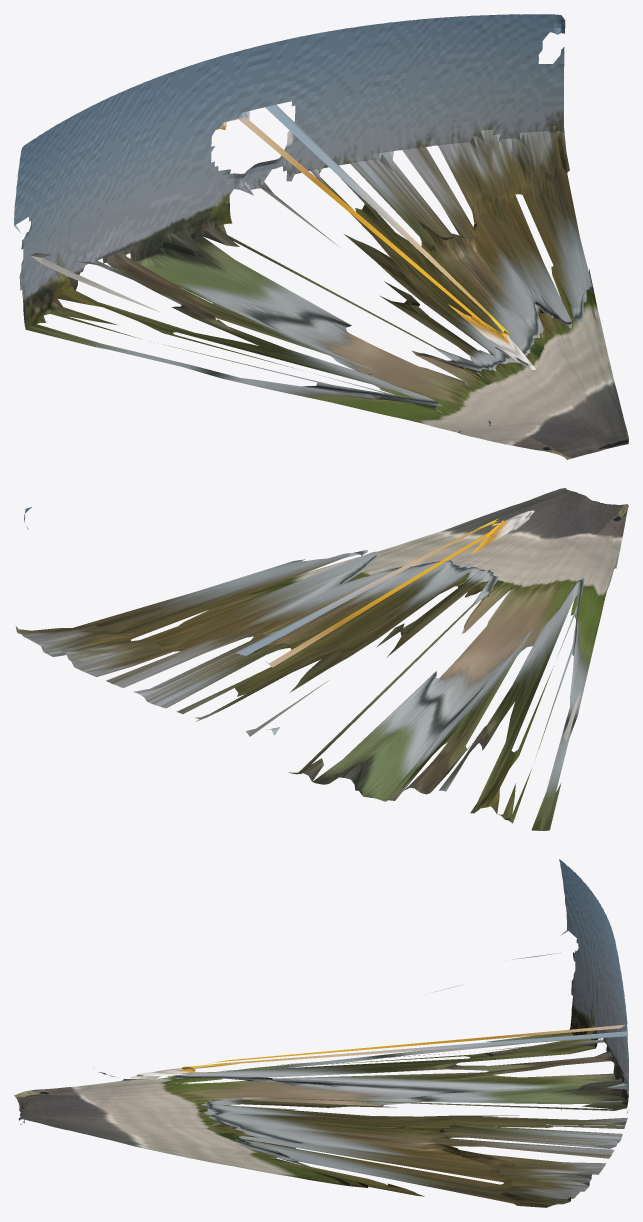
3 views of the same model, one above another, from view 1: azimuth 30°, elevation 25°; view 2: azimuth 150°, elevation 25°; view 3: azimuth 270°, elevation 25° (orthographic). The views are drawn at different scales.
Visible parts, largest first — view 1: defaultobject; view 2: defaultobject; view 3: defaultobject.
Boxes of the visible parts, x1,y1,x2,y2 form: defaultobject: (14, 14, 628, 459); defaultobject: (15, 488, 628, 830); defaultobject: (14, 859, 628, 1207).
Bounding box in the file's own units: 41.12 × 14.35 × 44.67.
1 material, 1 textured.
